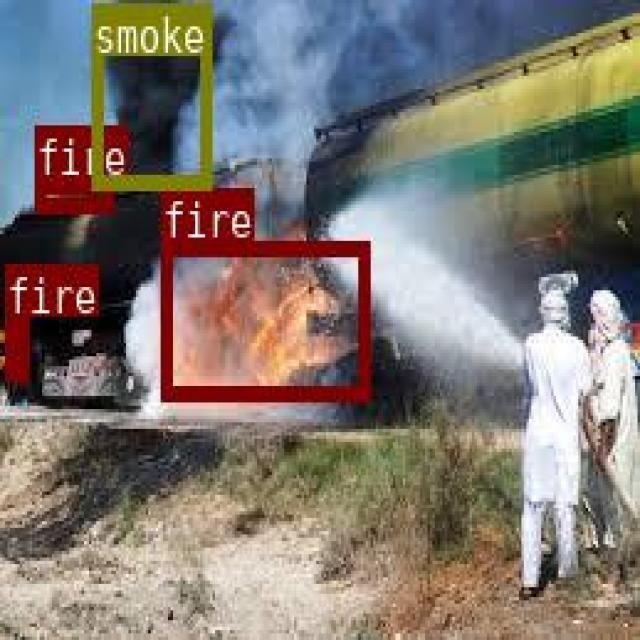fire: (160, 240, 367, 399), (32, 176, 110, 209), (3, 316, 26, 376)
smoke: (92, 0, 210, 187)
